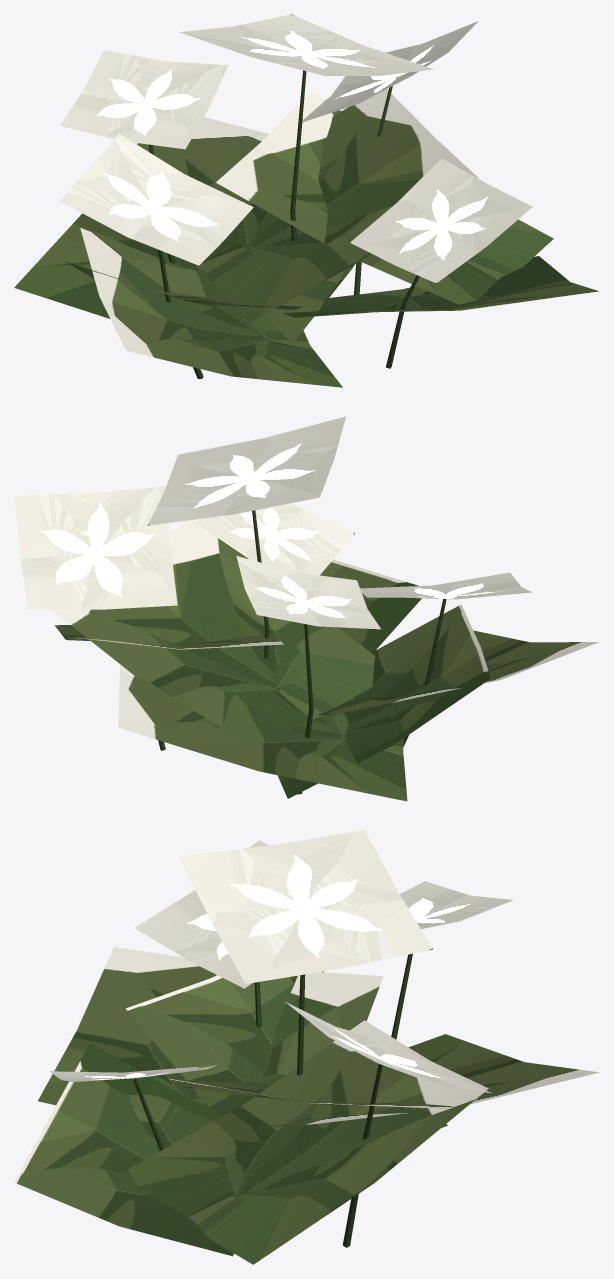
File: CaveFlowers_A_Cluster.fbx
3 renders of one model, top to bottom at view 1: azimuth 30°, elevation 25°; view 2: azimuth 150°, elevation 25°; view 3: azimuth 270°, elevation 25°, orthographic. The views are drawn at different scales.
Parts seen in each view (by area): view 1: CaveFlowers_A_Cluster; view 2: CaveFlowers_A_Cluster; view 3: CaveFlowers_A_Cluster.
Part boxes in pixels (x1,y1,x2,y2): CaveFlowers_A_Cluster: (14,14,599,387); CaveFlowers_A_Cluster: (14,416,598,801); CaveFlowers_A_Cluster: (14,830,599,1264).
Size of the model in its own units: 0.3419 by 0.2058 by 0.328.
1 material, 1 textured.
